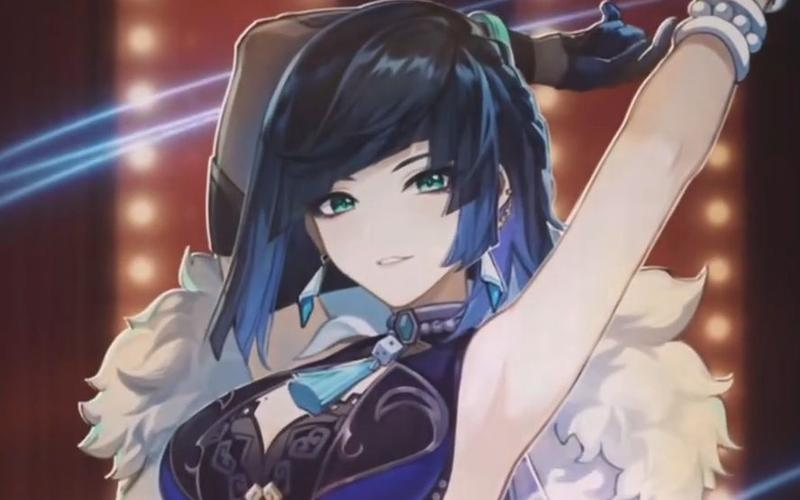夜兰: (150, 6, 771, 500)
